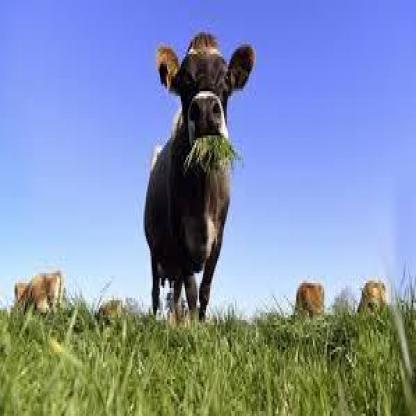cow: (143, 31, 255, 328)
